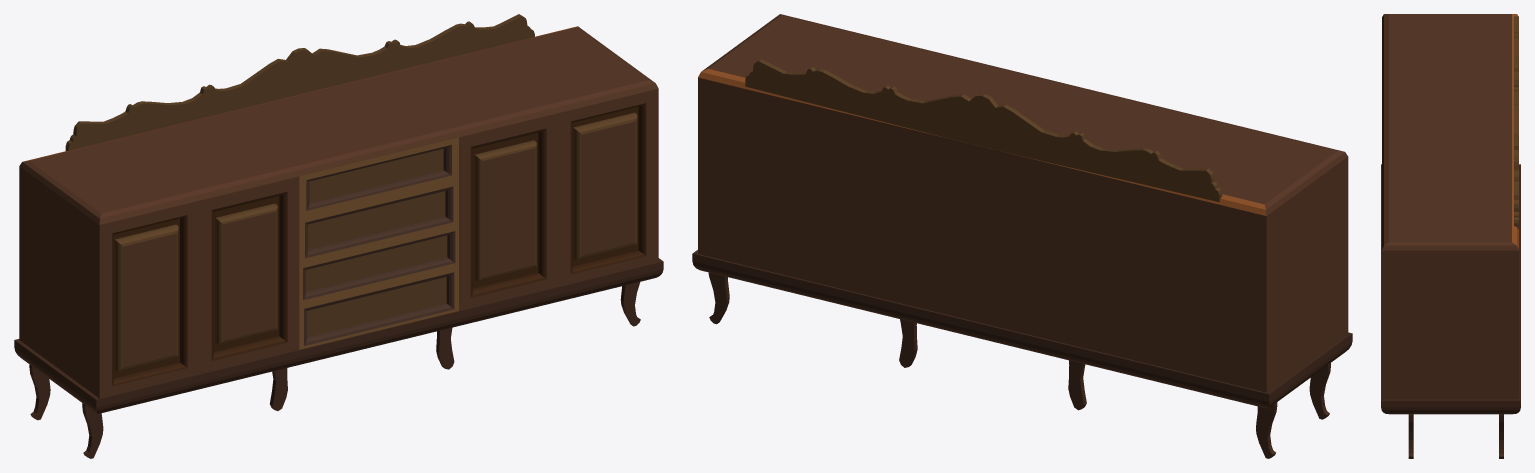
The model's file is Balcao.fbx.
The picture shows the model from 3 angles, left to right: view 1: azimuth 30°, elevation 25°; view 2: azimuth 150°, elevation 25°; view 3: azimuth 270°, elevation 25°; orthographic projection. The views are drawn at different scales.
Visible parts, largest first — view 1: BalcaoMadeira_LoPo; view 2: BalcaoMadeira_LoPo; view 3: BalcaoMadeira_LoPo.
Part boxes in pixels (x1,y1,x2,y2): BalcaoMadeira_LoPo: (14, 14, 663, 458); BalcaoMadeira_LoPo: (692, 14, 1352, 458); BalcaoMadeira_LoPo: (1381, 14, 1520, 458).
Size of the model in its own units: 200 by 100 by 50.
